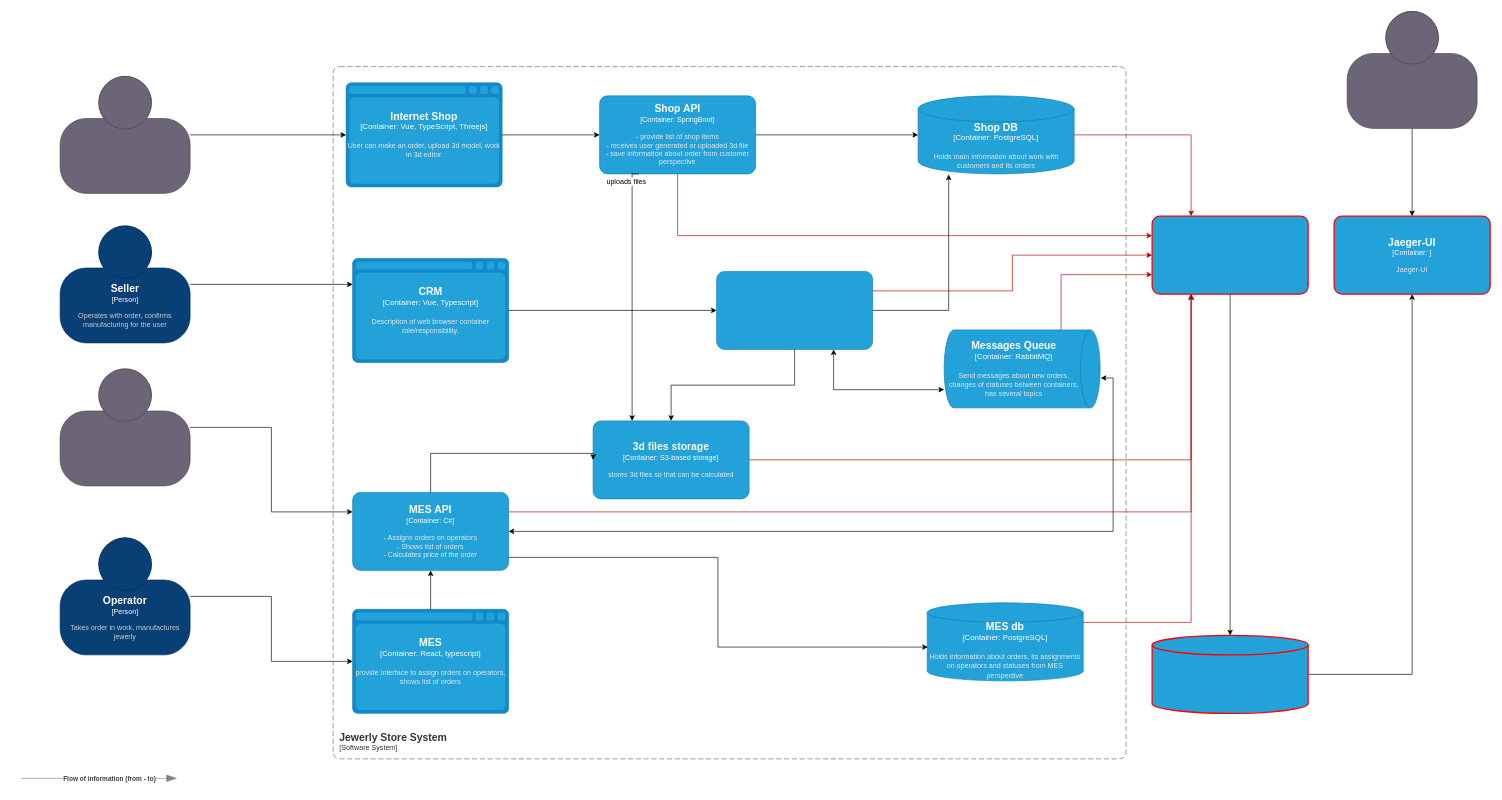
This 1502x800 diagram has some shape labels left out. The centre of each missing label's shape, as x and y in pixels:
"Admin [Person] Admin" goes at (x=1411, y=69).
"API user [Person] Description of external person." goes at (x=124, y=427).
"CRM API [Container: SpringBoot] Description of container role/responsibility." goes at (x=794, y=310).
"Customer [Person] Description of external person." goes at (x=124, y=134).
"Jaeger db [Container: ] Jaeger db" goes at (x=1229, y=674).
"Jaeger-collector [Container: ] Jaeger-collector" goes at (x=1229, y=254).
